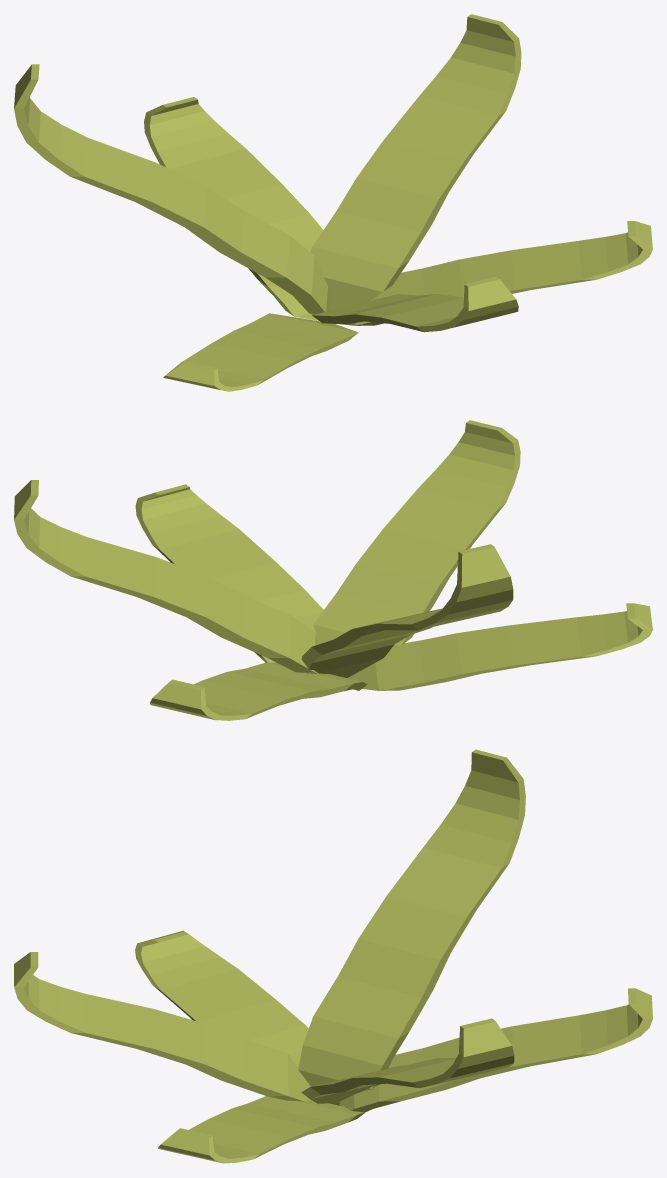
File: Dead Grass 002.fbx
The picture shows the model from 3 angles, top to bottom: view 1: azimuth 30°, elevation 25°; view 2: azimuth 150°, elevation 25°; view 3: azimuth 270°, elevation 25°; orthographic projection.
Parts seen in each view (by area): view 1: Cube.058; view 2: Cube.058; view 3: Cube.058.
Part boxes in pixels (<box>): Cube.058: <box>14,14,652,391</box>; Cube.058: <box>14,420,652,720</box>; Cube.058: <box>14,749,652,1163</box>.
Size of the model in its own units: 57.87 by 27.11 by 63.49.
